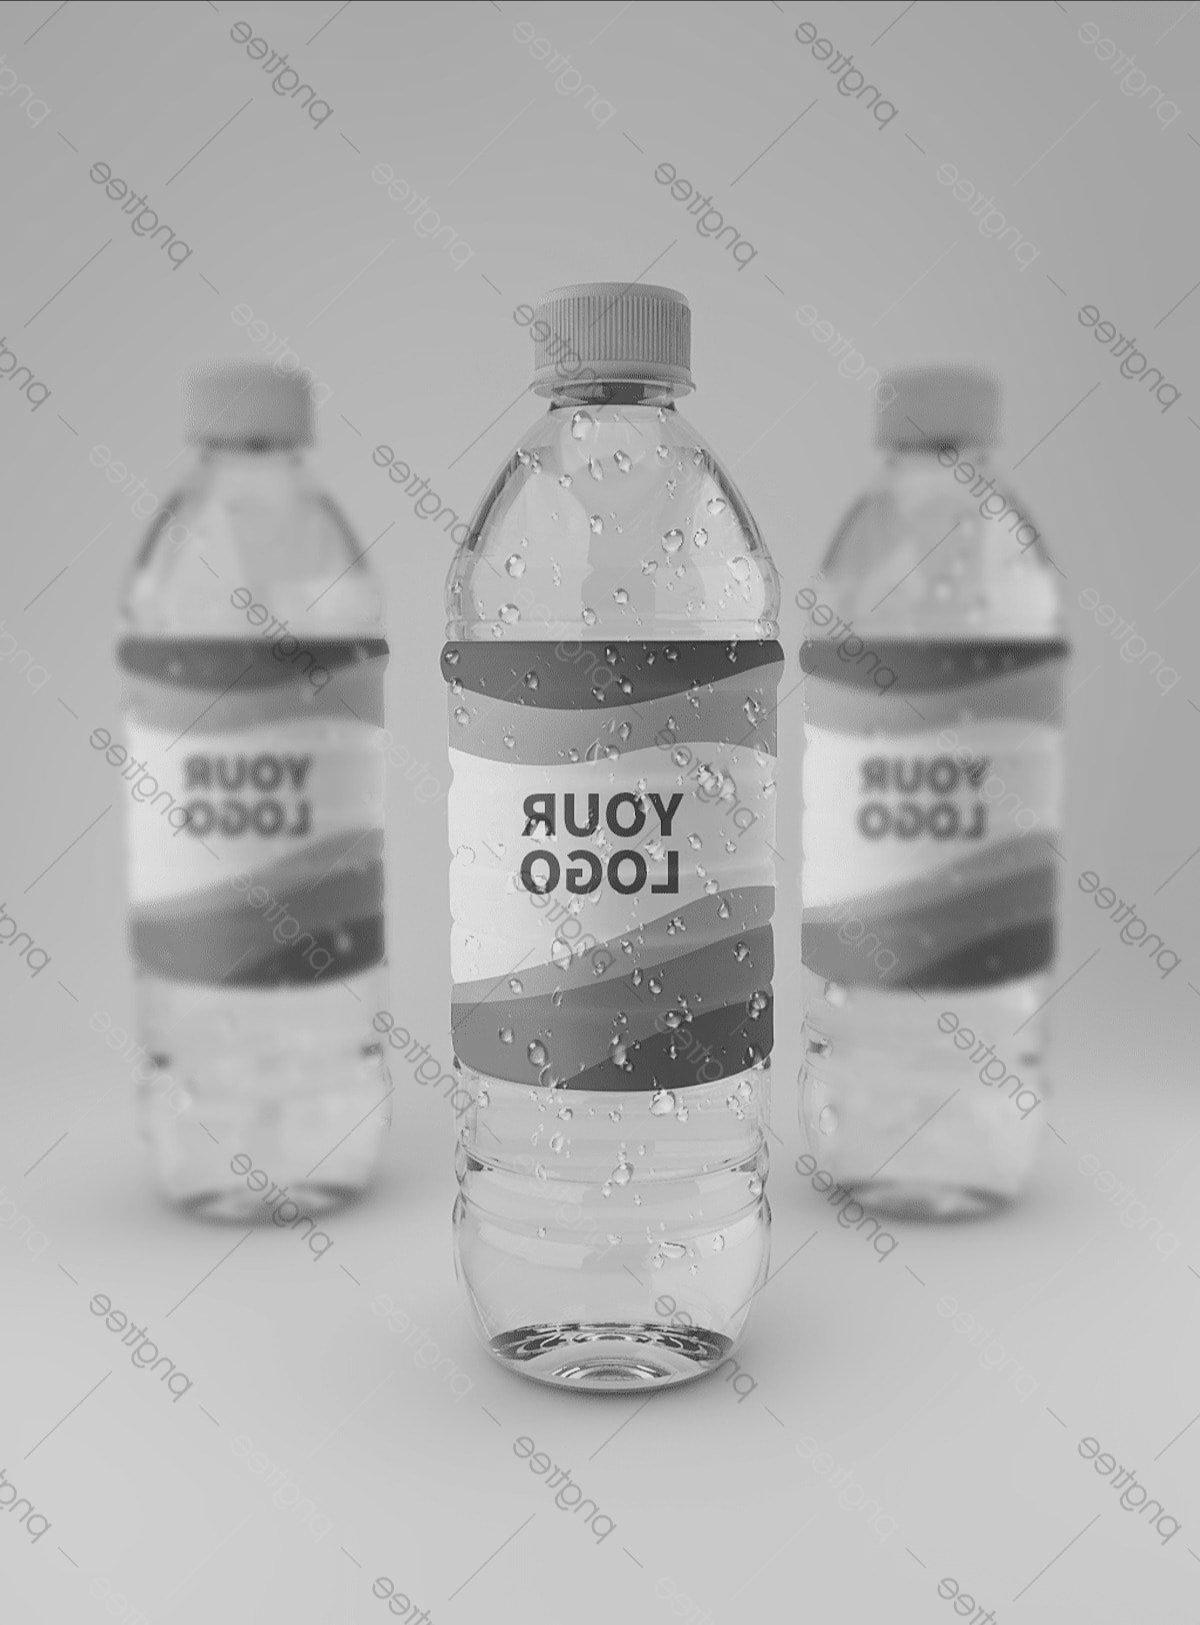bottle: (424, 257, 815, 1414), (90, 324, 429, 1273), (785, 328, 1080, 1244)
